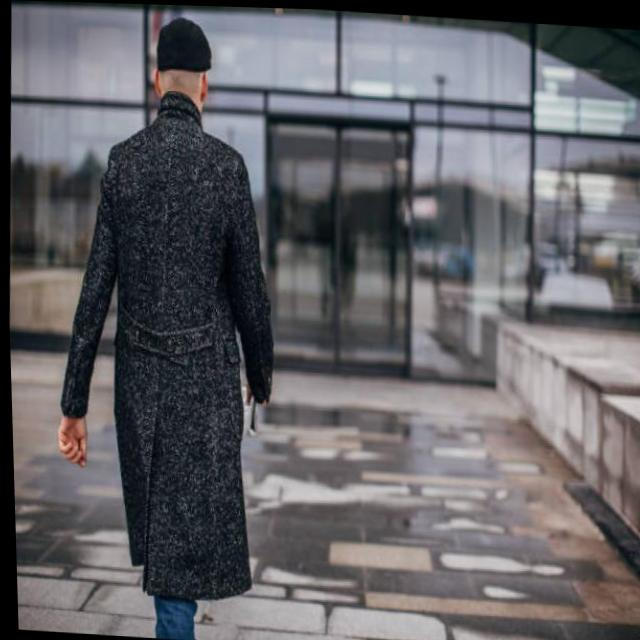no helmet: (140, 18, 226, 147)
